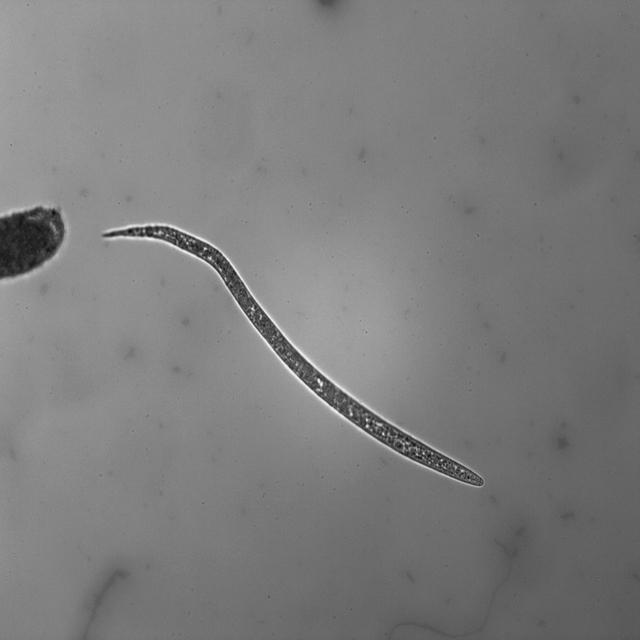Meloidogyne: (91, 220, 493, 495)
